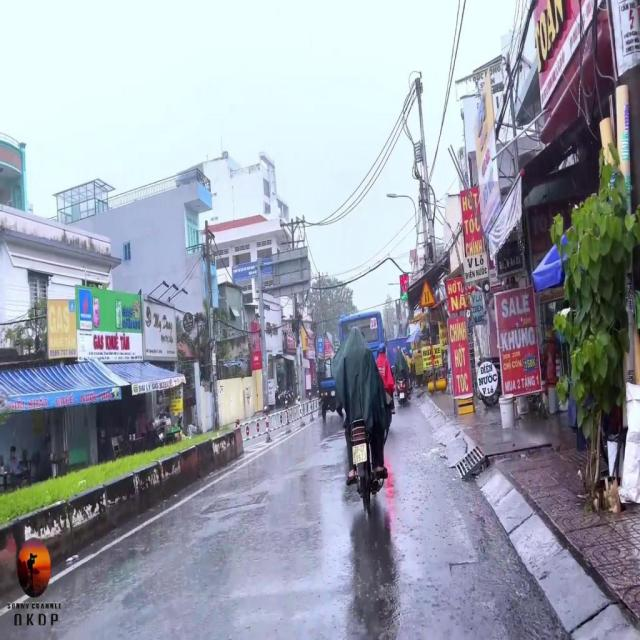khac: (419, 278, 436, 307)
